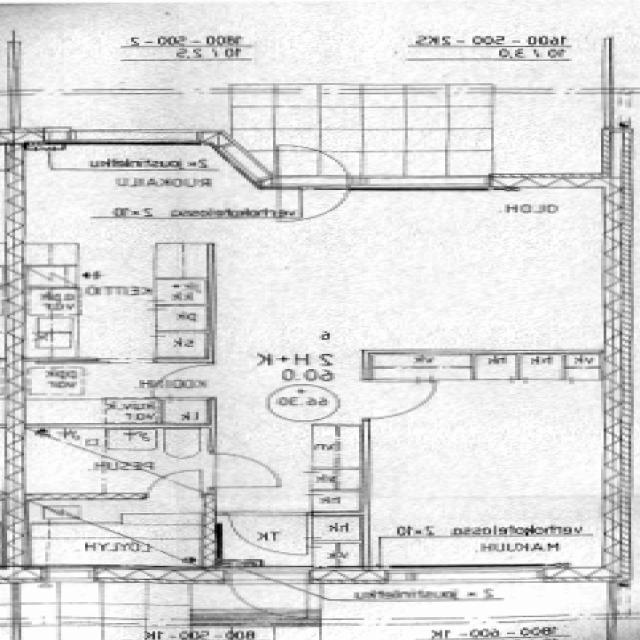door: (232, 570, 308, 622), (278, 137, 349, 188), (278, 173, 349, 224), (230, 512, 308, 556), (364, 381, 440, 418), (210, 454, 278, 487), (149, 365, 215, 397), (149, 465, 202, 499)
